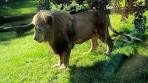lion: (30, 8, 115, 66)
